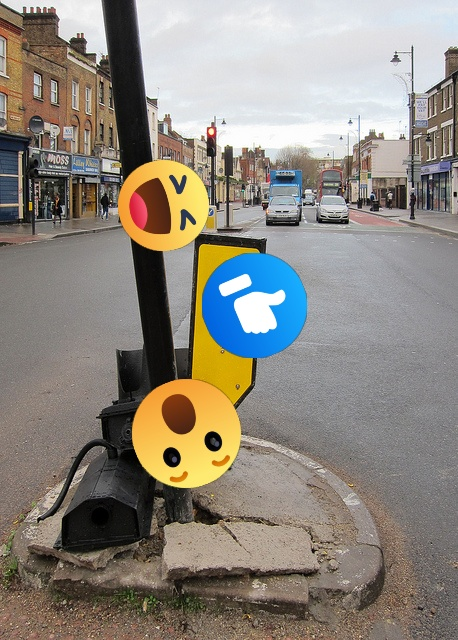haha: (118, 160, 209, 251)
like: (202, 253, 307, 358)
wow: (132, 379, 241, 488)
